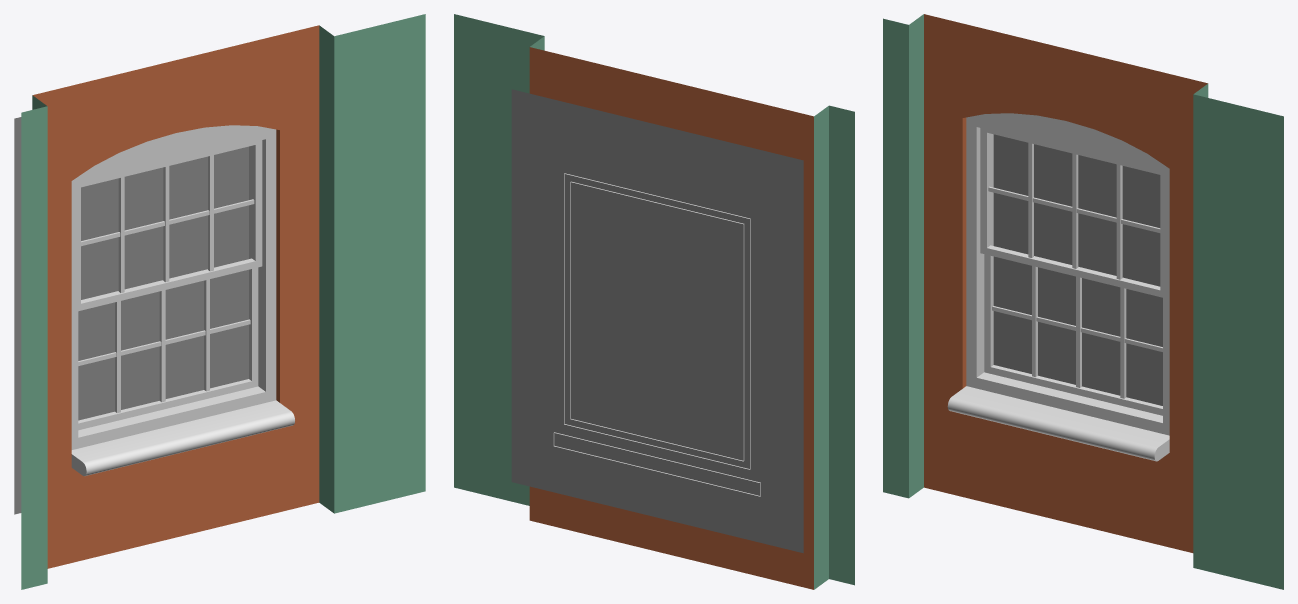
File: object_B3_Window_corner.glb
3 views of the same model, side by side, from view 1: azimuth 30°, elevation 25°; view 2: azimuth 150°, elevation 25°; view 3: azimuth 330°, elevation 25° (orthographic).
Visible parts, largest first — view 1: B3 Window corner; view 2: B3 Window corner; view 3: B3 Window corner.
Boxes of the visible parts, x1=… form: B3 Window corner: x1=14, y1=14, x2=425, y2=589; B3 Window corner: x1=454, y1=14, x2=854, y2=589; B3 Window corner: x1=883, y1=14, x2=1283, y2=589.
Bounding box in the file's own units: 3.1 × 3.5 × 0.4.
